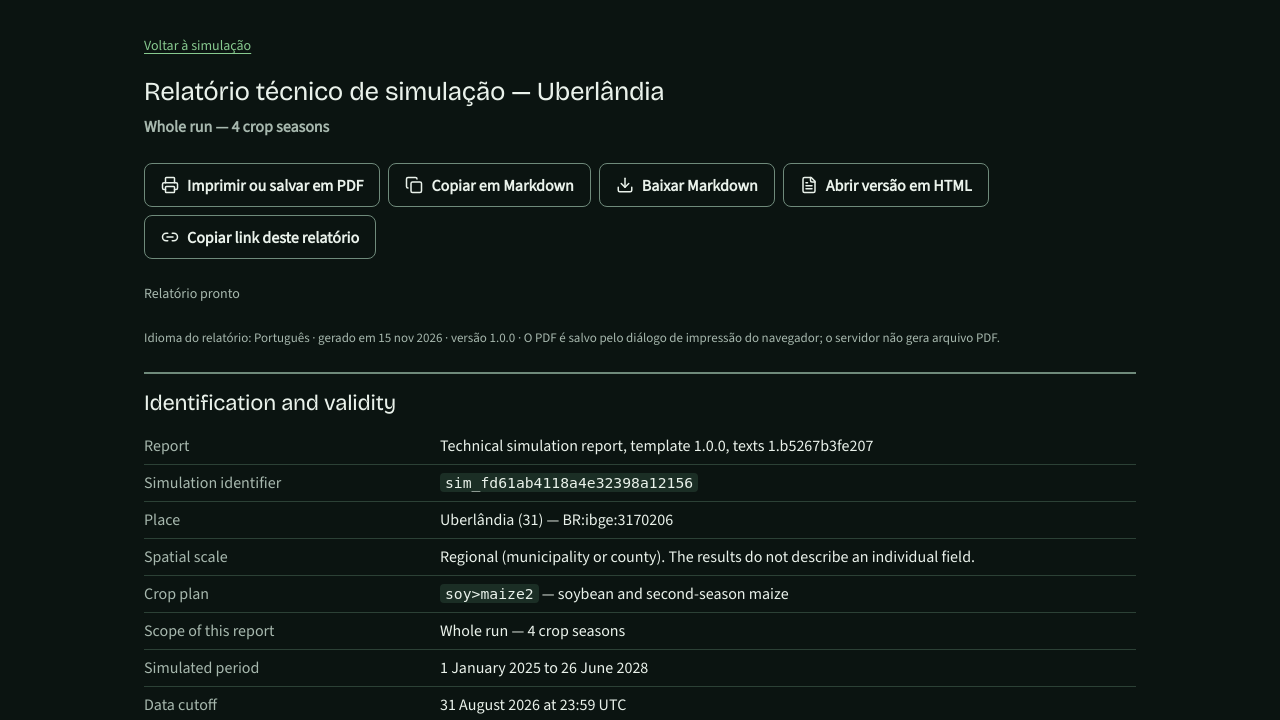
Test case: exports the representation on screen and prints only when asked
Later steps or results of the test are not shown.
Click the button "Copiar em Markdown" at (490, 185), box [388,163,591,207]
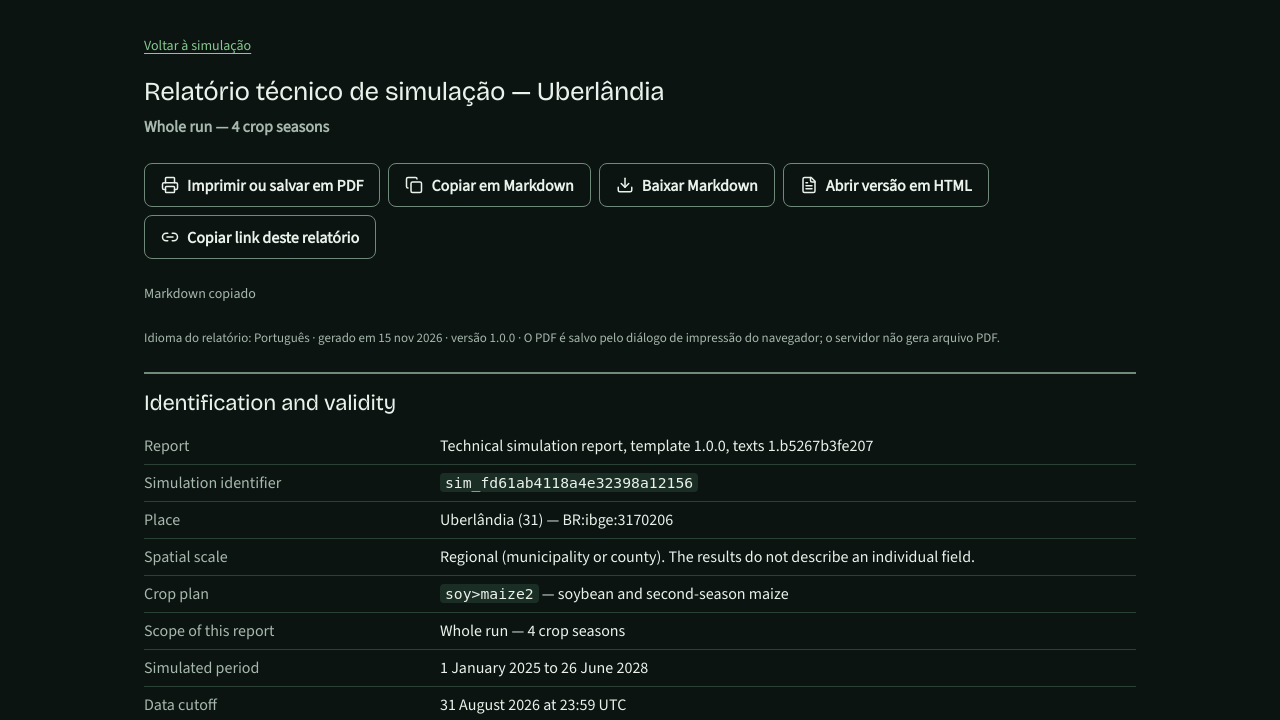
Check: the text "Markdown copiado" is shown, box [144,284,256,303]
